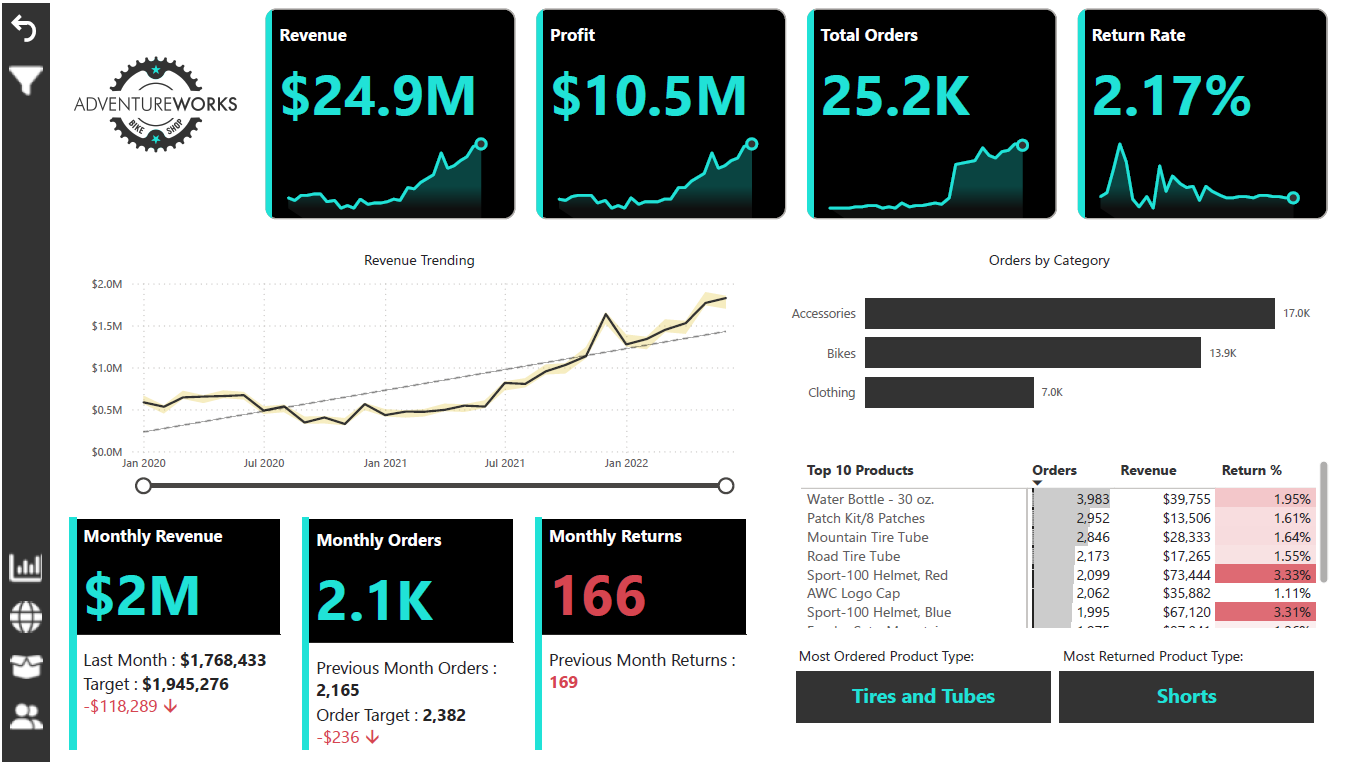

What the dashboard file says about the page in this screenshot:
{"tool":"powerbi","page":{"name":"Exec Dashboard","canvas":[1280,720],"ordinal":0},"visuals":[{"type":"image","title":"AW Logo","box":[46.2,26,199.1,141.4],"z":0},{"type":"actionButton","box":[2.5,516.7,45.6,37.8],"z":0,"group":"g1"},{"type":"shape","title":"Left Nav Background","box":[0,0,45,720],"z":1000},{"type":"actionButton","box":[3.3,563.4,45.6,37.8],"z":1000,"group":"g1"},{"type":"lineChart","title":"Revenue Trending","fields":{"Y":["Measure Table.Total Revenue"],"Category":["Calendar Lookup.Start of Month"]},"box":[79.4,233.7,633.4,235.2],"z":2000},{"type":"actionButton","box":[3.3,611.1,45.6,37.8],"z":2000,"group":"g1"},{"type":"clusteredBarChart","title":"Orders by Category","fields":{"Category":["Product Categories Lookup.CategoryName"],"Y":["Measure Table.Total Orders"]},"box":[738.7,233.7,510.7,171.7],"z":3000},{"type":"actionButton","box":[3.3,657.8,45.6,37.8],"z":3000,"group":"g1"},{"type":"pivotTable","fields":{"Rows":["Product Lookup.ProductName"],"Values":["Measure Table.Total Orders","Measure Table.Total Revenue","Measure Table.Return Rate"]},"box":[754.4,429,510,169.1],"z":4000},{"type":"card","fields":{"Values":["Min(Product Subcategories Lookup.SubcategoryName)"]},"box":[753.7,634.2,241.4,48.5],"z":5000},{"type":"textbox","box":[751.3,604.6,198.8,35.5],"z":6000},{"type":"card","fields":{"Values":["Min(Product Subcategories Lookup.SubcategoryName)"]},"box":[1004.1,634.2,241.4,48.5],"z":7000},{"type":"textbox","box":[1002.2,605.2,198.8,35.5],"z":8000},{"type":"actionButton","box":[3.3,5.6,35.6,35.6],"z":9000},{"type":"group","id":"g1","title":"Navigation Buttons","box":[2.5,516.7,46.4,178.9],"z":10000},{"type":"actionButton","box":[3.4,53.1,38.4,39.6],"z":11000},{"type":"cardVisual","fields":{"Data":["Sum(Sales Data.Revenue)","Measure Table.Total Profit","Measure Table.Total Orders","Measure Table.Return Rate"]},"box":[245.3,0,1018.6,210.6],"z":13000},{"type":"cardVisual","fields":{"Data":["Sum(Sales Data.Revenue)","Measure Table.Total Orders","Measure Table.Total Returns"]},"box":[59.2,483.3,653.6,230.8],"z":14000}]}

Visuals, with their boxes on the page's 1280x720 design canvas (x1, y1, x2, y2). These are canvas units, not pixel positions in the 1352x766 screenshot, which may show the page scaled, cropped or inside an application window:
"AW Logo" image: box(46, 26, 245, 167)
actionButton: box(2, 517, 48, 554)
"Left Nav Background" shape: box(0, 0, 45, 720)
actionButton: box(3, 563, 49, 601)
"Revenue Trending" lineChart: box(79, 234, 713, 469)
actionButton: box(3, 611, 49, 649)
"Orders by Category" clusteredBarChart: box(739, 234, 1249, 405)
actionButton: box(3, 658, 49, 696)
pivotTable - Product Lookup.ProductName x Measure Table.Total Orders: box(754, 429, 1264, 598)
card - Min(Product Subcategories Lookup.SubcategoryName): box(754, 634, 995, 683)
textbox: box(751, 605, 950, 640)
card - Min(Product Subcategories Lookup.SubcategoryName): box(1004, 634, 1246, 683)
textbox: box(1002, 605, 1201, 641)
actionButton: box(3, 6, 39, 41)
"Navigation Buttons" group: box(2, 517, 49, 696)
actionButton: box(3, 53, 42, 93)
cardVisual - Sum(Sales Data.Revenue) x Measure Table.Total Profit: box(245, 0, 1264, 211)
cardVisual - Sum(Sales Data.Revenue) x Measure Table.Total Orders: box(59, 483, 713, 714)
